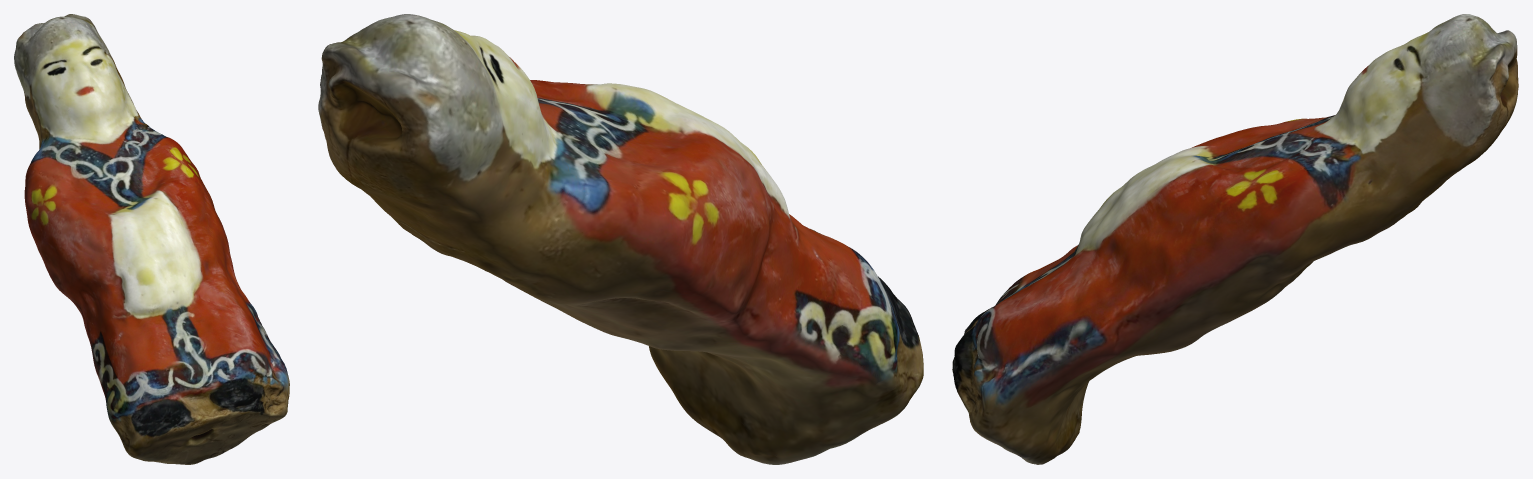
3 renders of one model, left to right at view 1: azimuth 30°, elevation 25°; view 2: azimuth 150°, elevation 25°; view 3: azimuth 270°, elevation 25°, orthographic. The views are drawn at different scales.
Bounding box in the file's own units: 0.3117 × 0.5843 × 0.661.
1 material, 1 textured.
